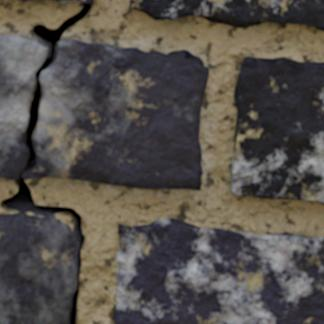brick: (115, 219, 323, 323), (231, 57, 323, 203), (0, 213, 78, 323), (130, 0, 323, 30), (56, 0, 92, 3)
broken_brick: (23, 38, 209, 190), (0, 34, 45, 180)
crack: (0, 2, 92, 323)
